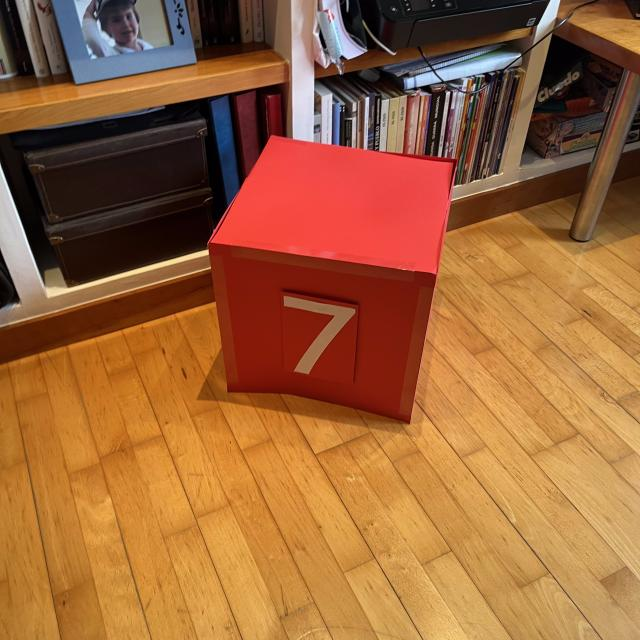box: (203, 132, 460, 426)
